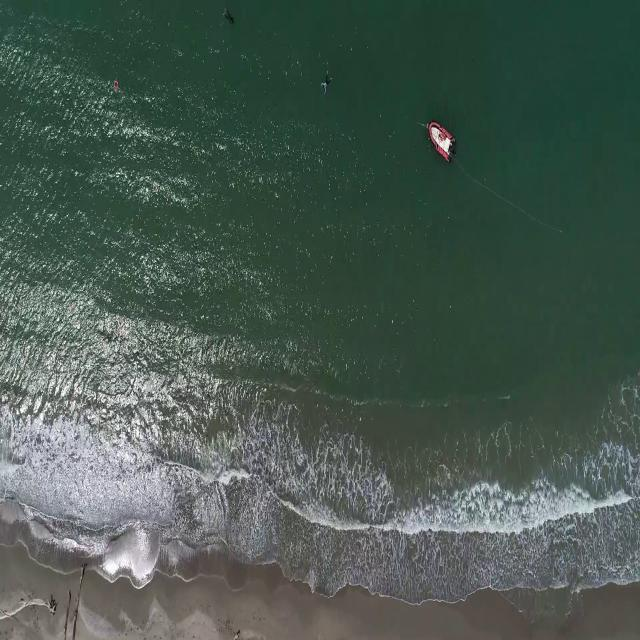boat: (428, 119, 455, 165)
life_buoy: (112, 80, 120, 92)
person: (320, 73, 333, 98), (223, 11, 238, 27)
wood: (64, 564, 86, 640), (0, 594, 61, 618)
